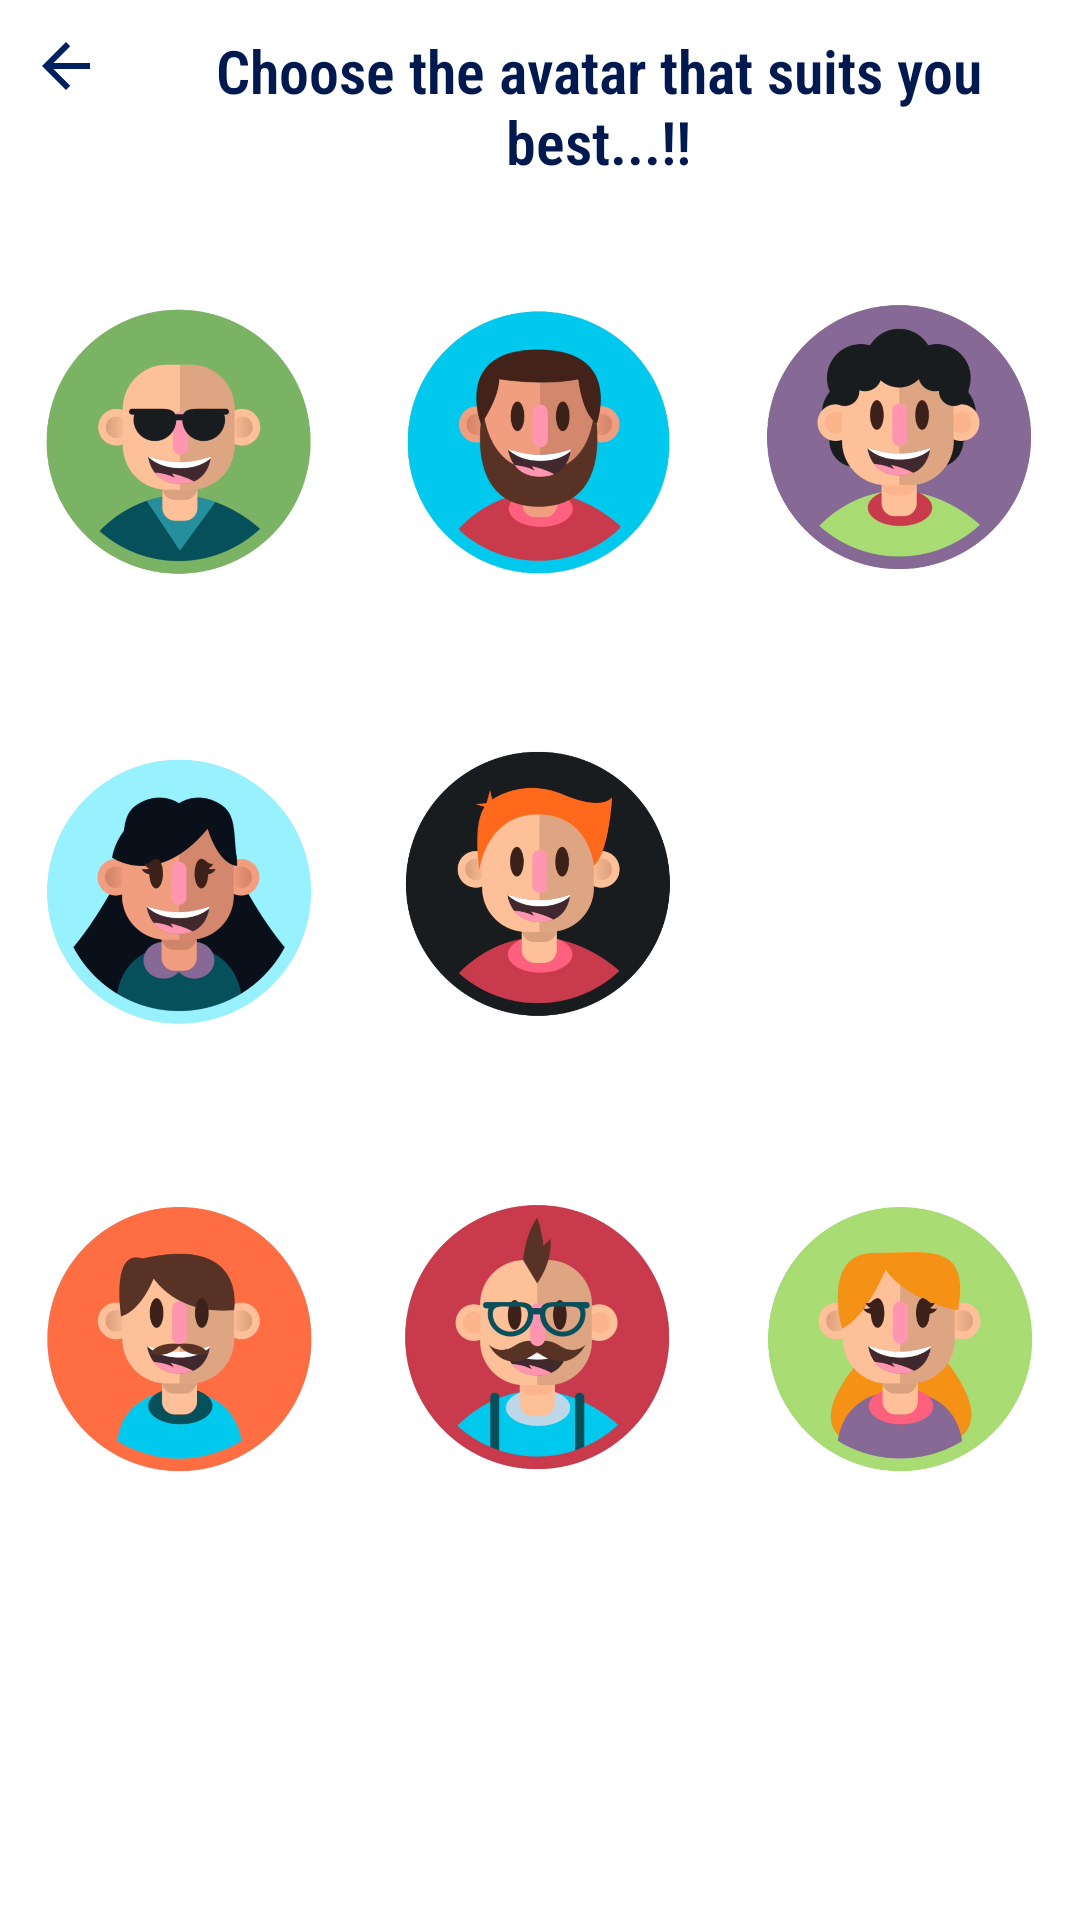

Locate icon controls on the screen. Image size 1080 × 1920, boxes as (x1, y1, x2, y2).
back: (42, 42, 90, 90)
